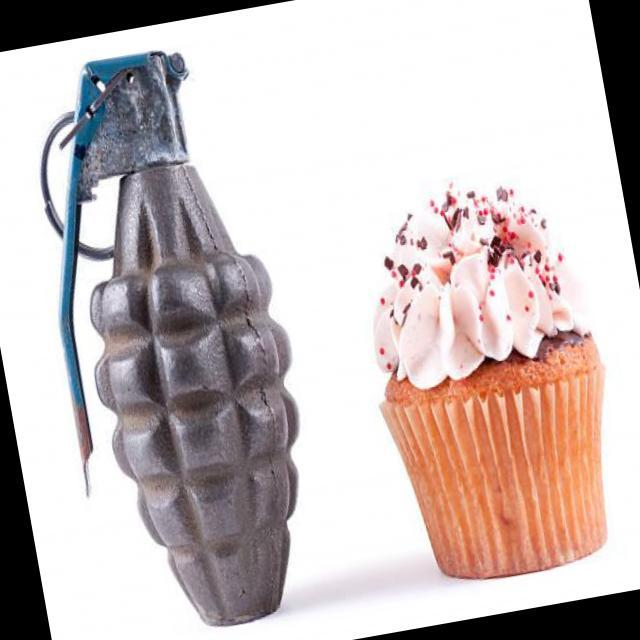grenade: (2, 27, 341, 640)
